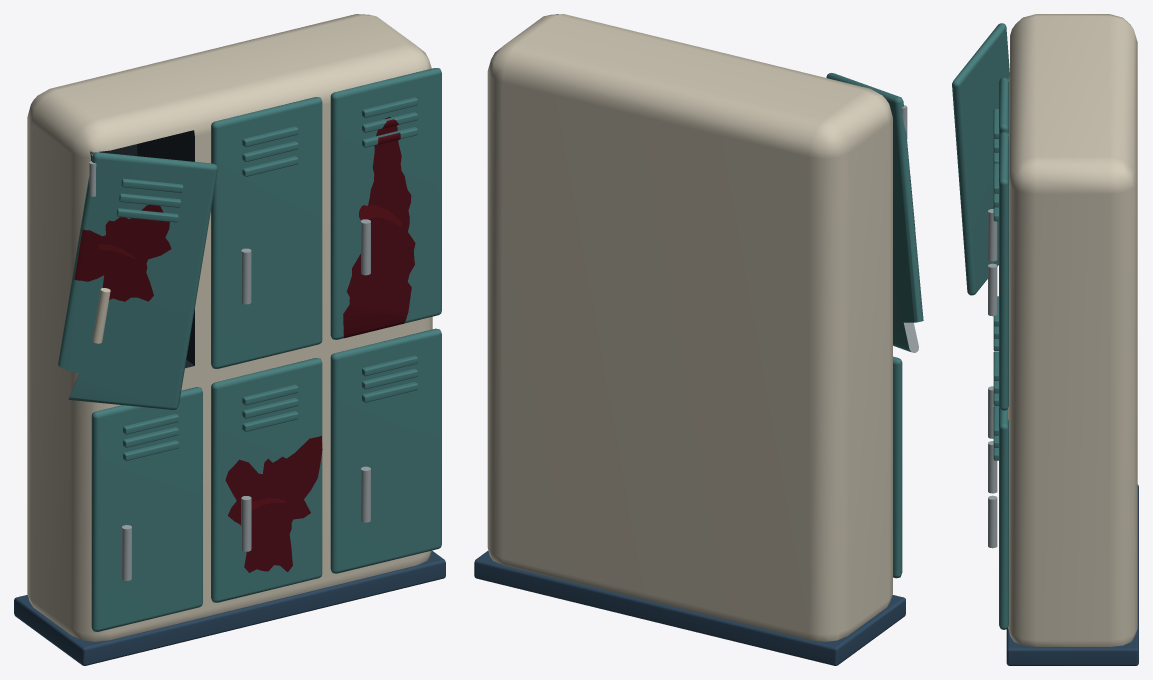
The model's file is locker_bank.glb.
The picture shows the model from 3 angles, left to right: view 1: azimuth 30°, elevation 25°; view 2: azimuth 150°, elevation 25°; view 3: azimuth 270°, elevation 25°; orthographic projection. The views are drawn at different scales.
Visible parts, largest first — view 1: Outbreak_11_standard_lockers_Static; view 2: Outbreak_11_standard_lockers_Static; view 3: Outbreak_11_standard_lockers_Static.
Part boxes in pixels (x1,y1,x2,y2): Outbreak_11_standard_lockers_Static: (14, 14, 445, 665); Outbreak_11_standard_lockers_Static: (474, 14, 923, 665); Outbreak_11_standard_lockers_Static: (952, 14, 1138, 665).
Size of the model in its own units: 1.48 by 1.95 by 0.6646.
